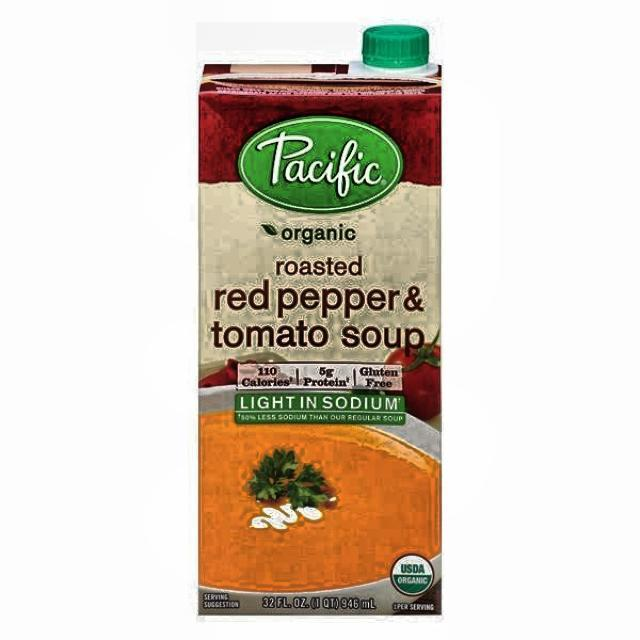cardboard: (196, 60, 443, 614)
